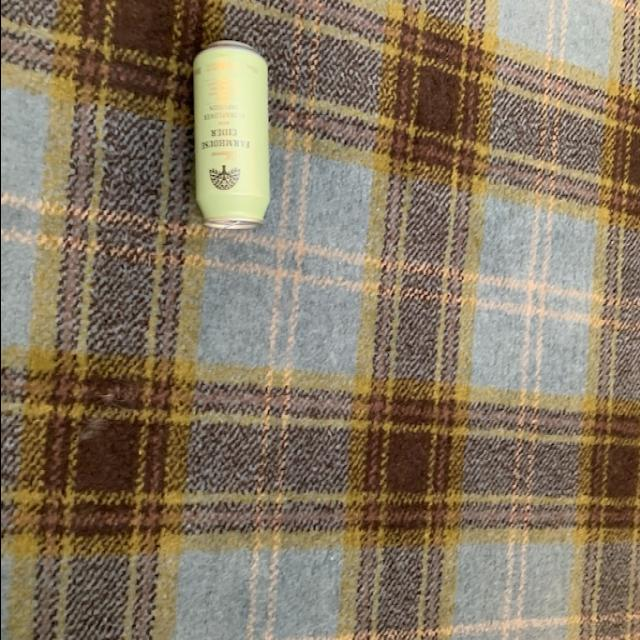litter: (188, 48, 266, 228)
